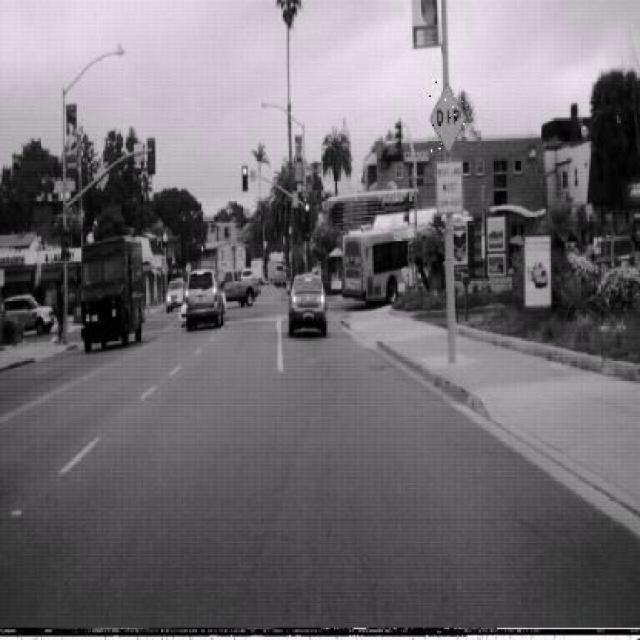dip: (428, 83, 466, 157)
